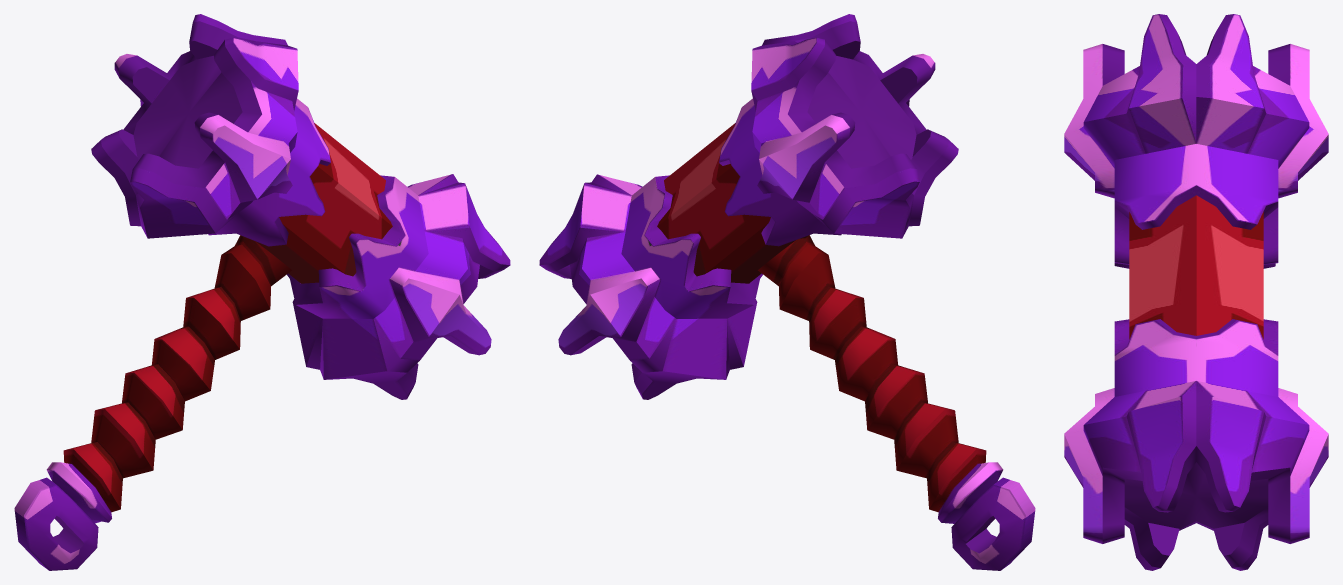
Rendered from Dark spider_04.FBX.
3 renders of one model, left to right at view 1: azimuth 30°, elevation 25°; view 2: azimuth 150°, elevation 25°; view 3: azimuth 270°, elevation 25°, orthographic. The views are drawn at different scales.
Parts seen in each view (by area): view 1: Dark spider_04; view 2: Dark spider_04; view 3: Dark spider_04.
Boxes of the visible parts, bbox=[...] form: Dark spider_04: bbox=[14, 14, 510, 570]; Dark spider_04: bbox=[539, 14, 1035, 570]; Dark spider_04: bbox=[1064, 14, 1328, 570].
Size of the model in its own units: 76.55 by 77.75 by 31.94.
